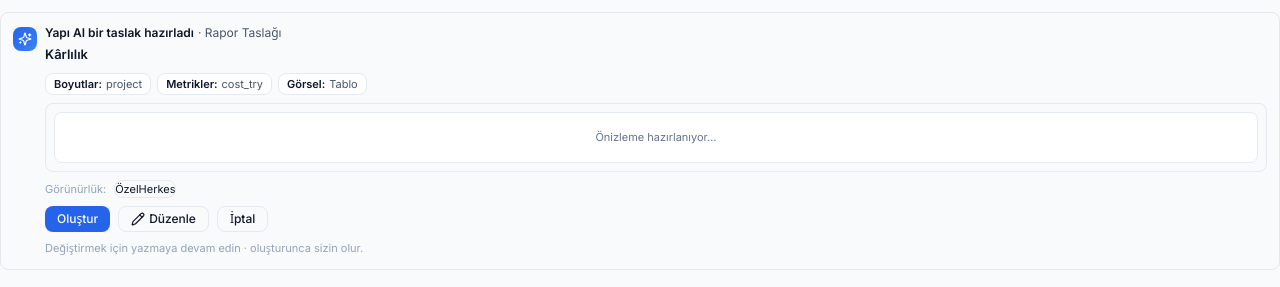
it: ProposedActionCard draft (CR-039) › Oluştur creates the report AS THE USER, stays in chat, then Aç navigates
Later steps or results of the test are not shown.
Click the button "Oluştur" at (78, 219), box left=45, top=206, right=110, bottom=232
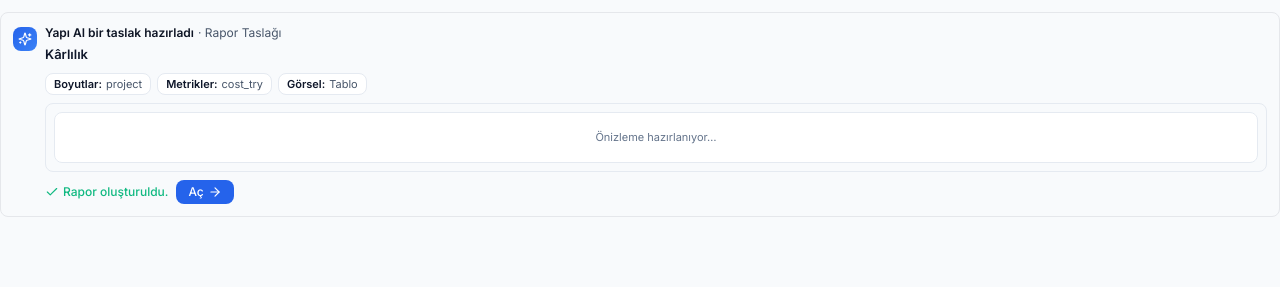
Check: the button "Aç" is shown, box left=176, top=180, right=234, bottom=204
